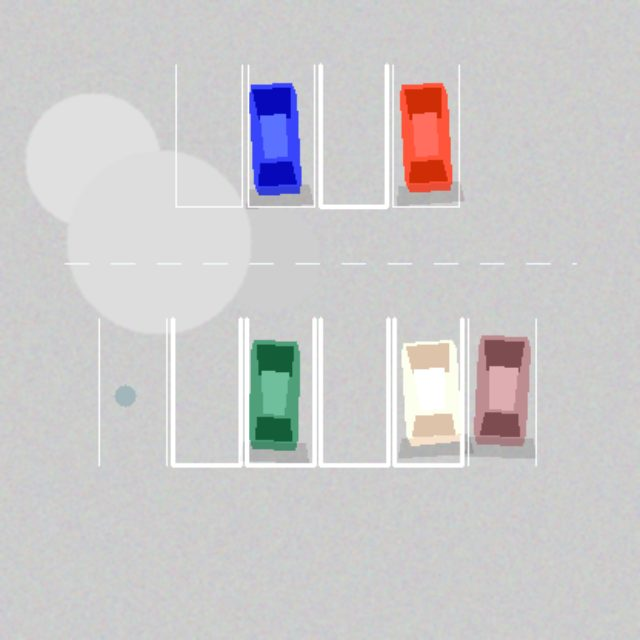space-empty: (98, 318, 166, 465), (172, 318, 240, 465), (320, 318, 388, 465), (175, 65, 242, 206), (320, 65, 386, 206)
space-occupied: (246, 318, 314, 465), (394, 318, 462, 465), (468, 318, 535, 465), (248, 65, 314, 206), (392, 65, 458, 206)
